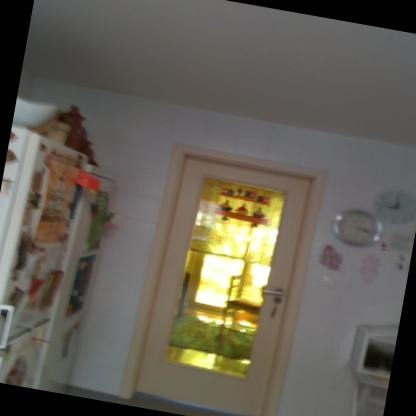closed: (111, 125, 351, 415)
